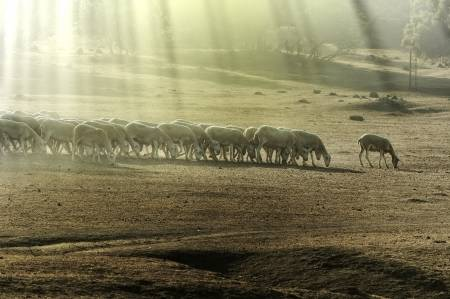sheep: (72, 123, 119, 167), (125, 120, 177, 158), (253, 124, 299, 166), (2, 118, 49, 159), (357, 133, 403, 170), (292, 125, 333, 166), (168, 118, 204, 158), (217, 127, 255, 163), (41, 115, 75, 149), (197, 120, 222, 157)
